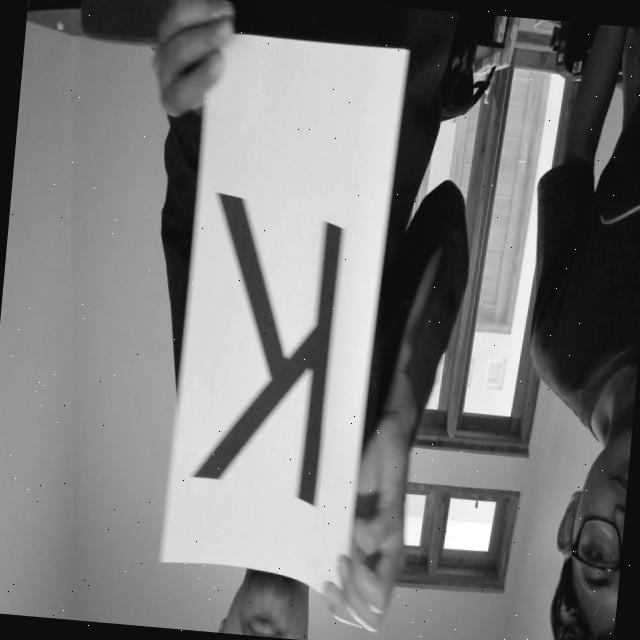k: (173, 168, 359, 518)
